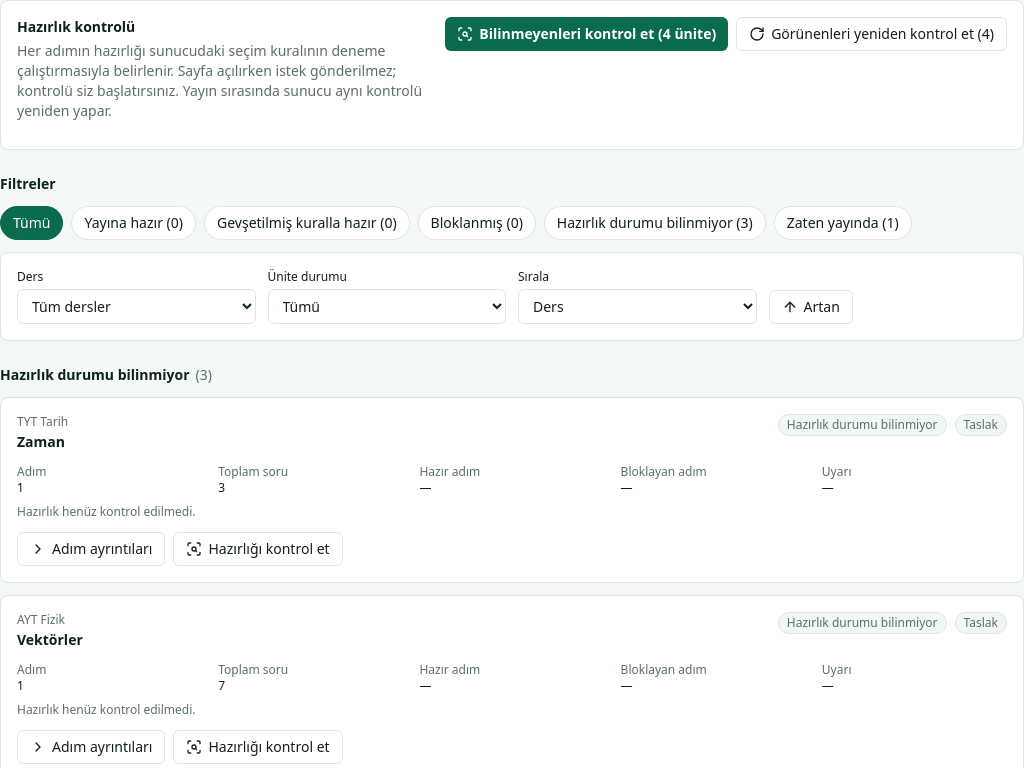
PublishingCenter readiness › checks the unknown units on request, then groups them
What coordinates should you click on to do the following:
click the button "Bilinmeyenleri kontrol et (4 ünite)"
I would click on:
 (587, 34)
Its box is [445,17,728,51].
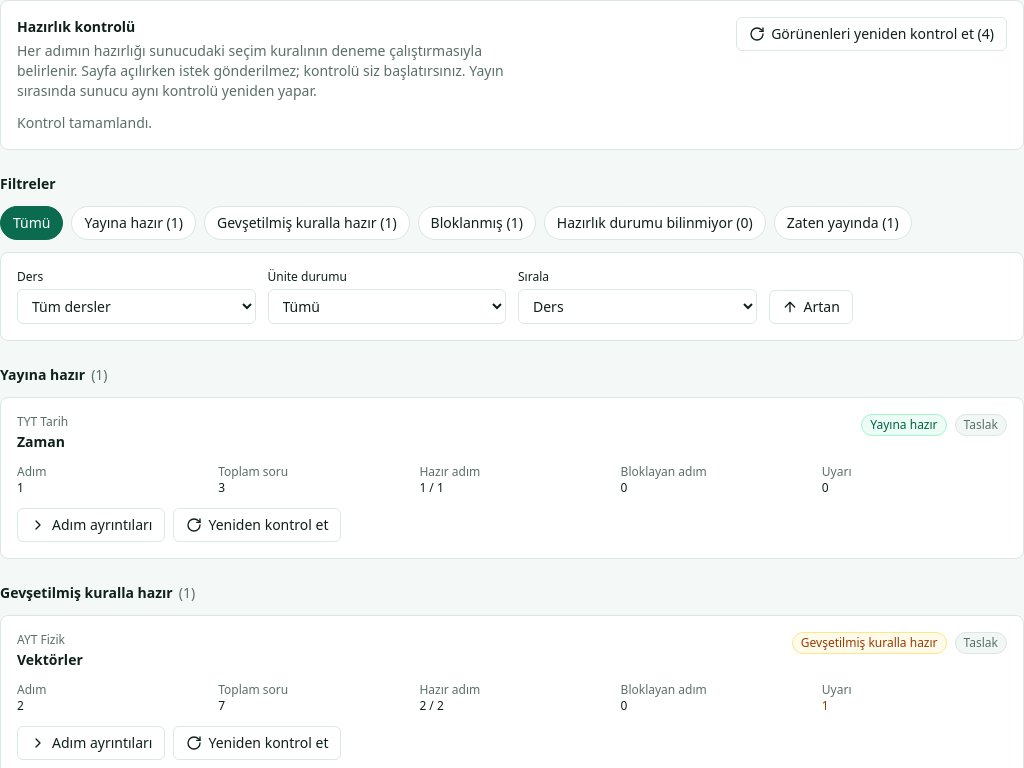
Result: the text "Kontrol tamamlandı." is shown at [17,113,152,132]
Result: the button "Bilinmeyenleri kontrol et" is gone
